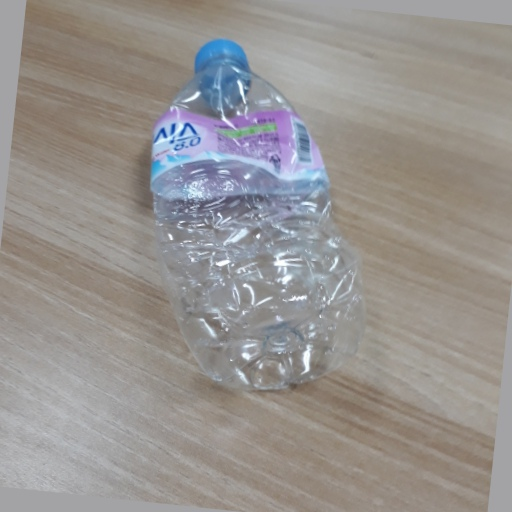Plastic_0: (146, 38, 366, 391)
